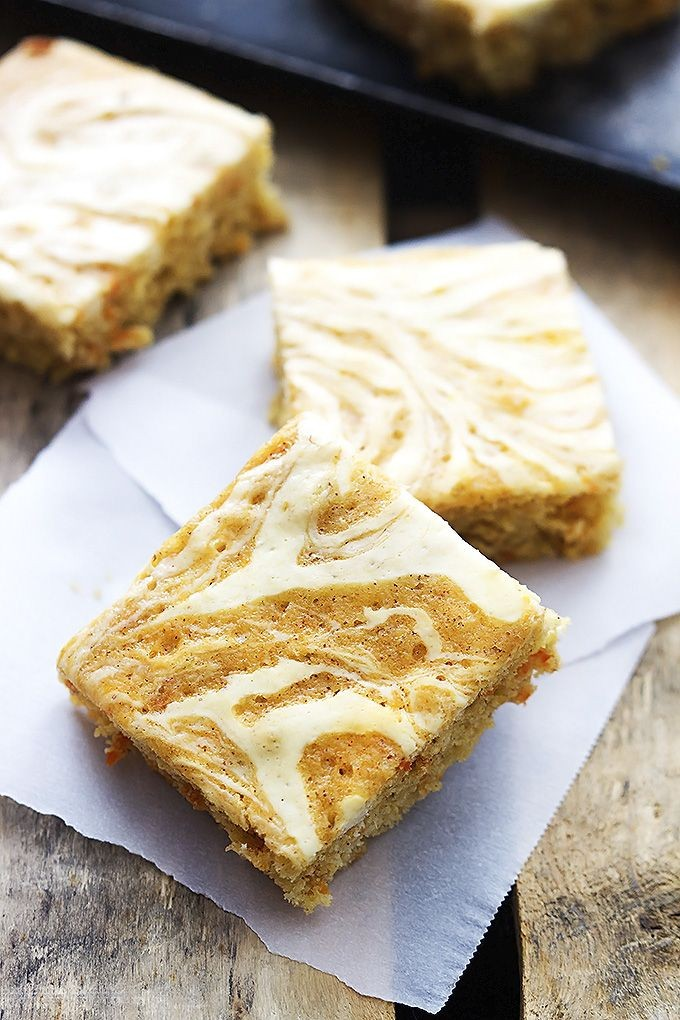cheese: (194, 527, 430, 733)
